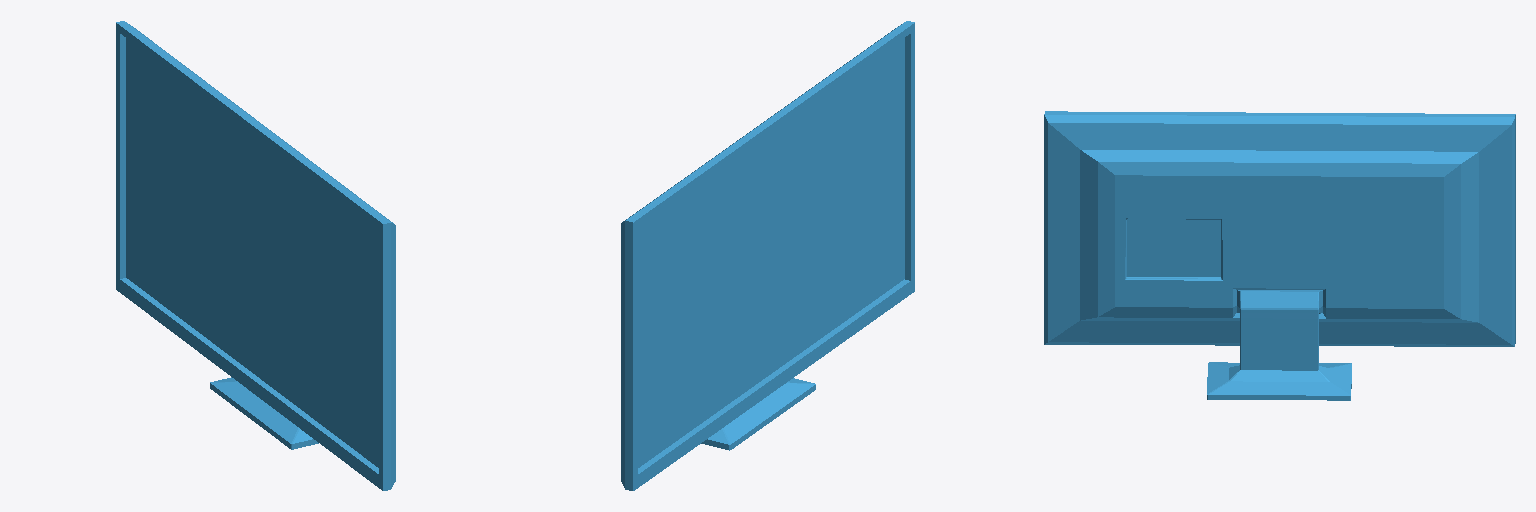
The robot description file, URDF, robot "led_tv_z_up":
<?xml version="1.0" ?>
<robot name="led_tv_z_up" xmlns:xacro="http://ros.org/wiki/xacro">

    <link name="world" />

    <link name="led_tv_z_up">
        <visual>
            <origin rpy="0 0 0" xyz="-1.5575628280639648 1.7635917663574219 -0.9648744463920593"/>
            <geometry>
                <mesh filename="led_tv_z_up.obj"/>
            </geometry>
        </visual>
        <collision>
            <origin rpy="0 0 0" xyz="-1.5575628280639648 1.7635917663574219 -0.9648744463920593"/>
            <geometry>
                <mesh filename="led_tv_z_up.obj"/>
            </geometry>
        </collision>
        <inertial>
            <mass value="30.455"/>
            <origin xyz="0 0 0"/>
            <inertia ixx="0.6022" ixy="-0.02364" ixz="-0.1197" iyy="1.7386" iyz="-0.001544" izz="2.0296"/>
        </inertial>
    </link>

    <joint name="joint_structure" type="fixed">
        <origin xyz="0.000 0.000 0.000" rpy="0 0 0" />
        <parent link="world" />
        <child link="led_tv_z_up" />
    </joint>

</robot>

--- Render facts (derived) ---
Views: 3 orthographic renders of the robot side by side, from view 1: azimuth 30°, elevation 25°; view 2: azimuth 150°, elevation 25°; view 3: azimuth 270°, elevation 25°.
Model led_tv_z_up with 2 links and 1 joints (1 fixed), rooted at world, posed all joints at 0.
Links seen in each view (by area): view 1: led_tv_z_up; view 2: led_tv_z_up; view 3: led_tv_z_up.
Link boxes in pixels (<box>): led_tv_z_up: <box>116,21,395,490</box>; led_tv_z_up: <box>621,21,914,490</box>; led_tv_z_up: <box>1044,111,1515,400</box>.
Bounding box of the posed robot: 0.1648 × 0.9467 × 0.5646 m (x, y, z).
1 mesh visuals loaded from 1 distinct referenced files (1 OBJ).